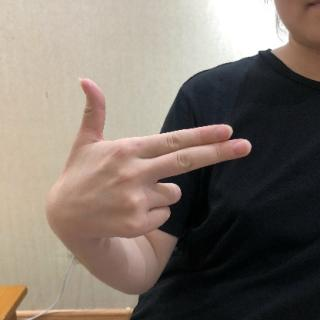GHAYN: (46, 78, 254, 242)
